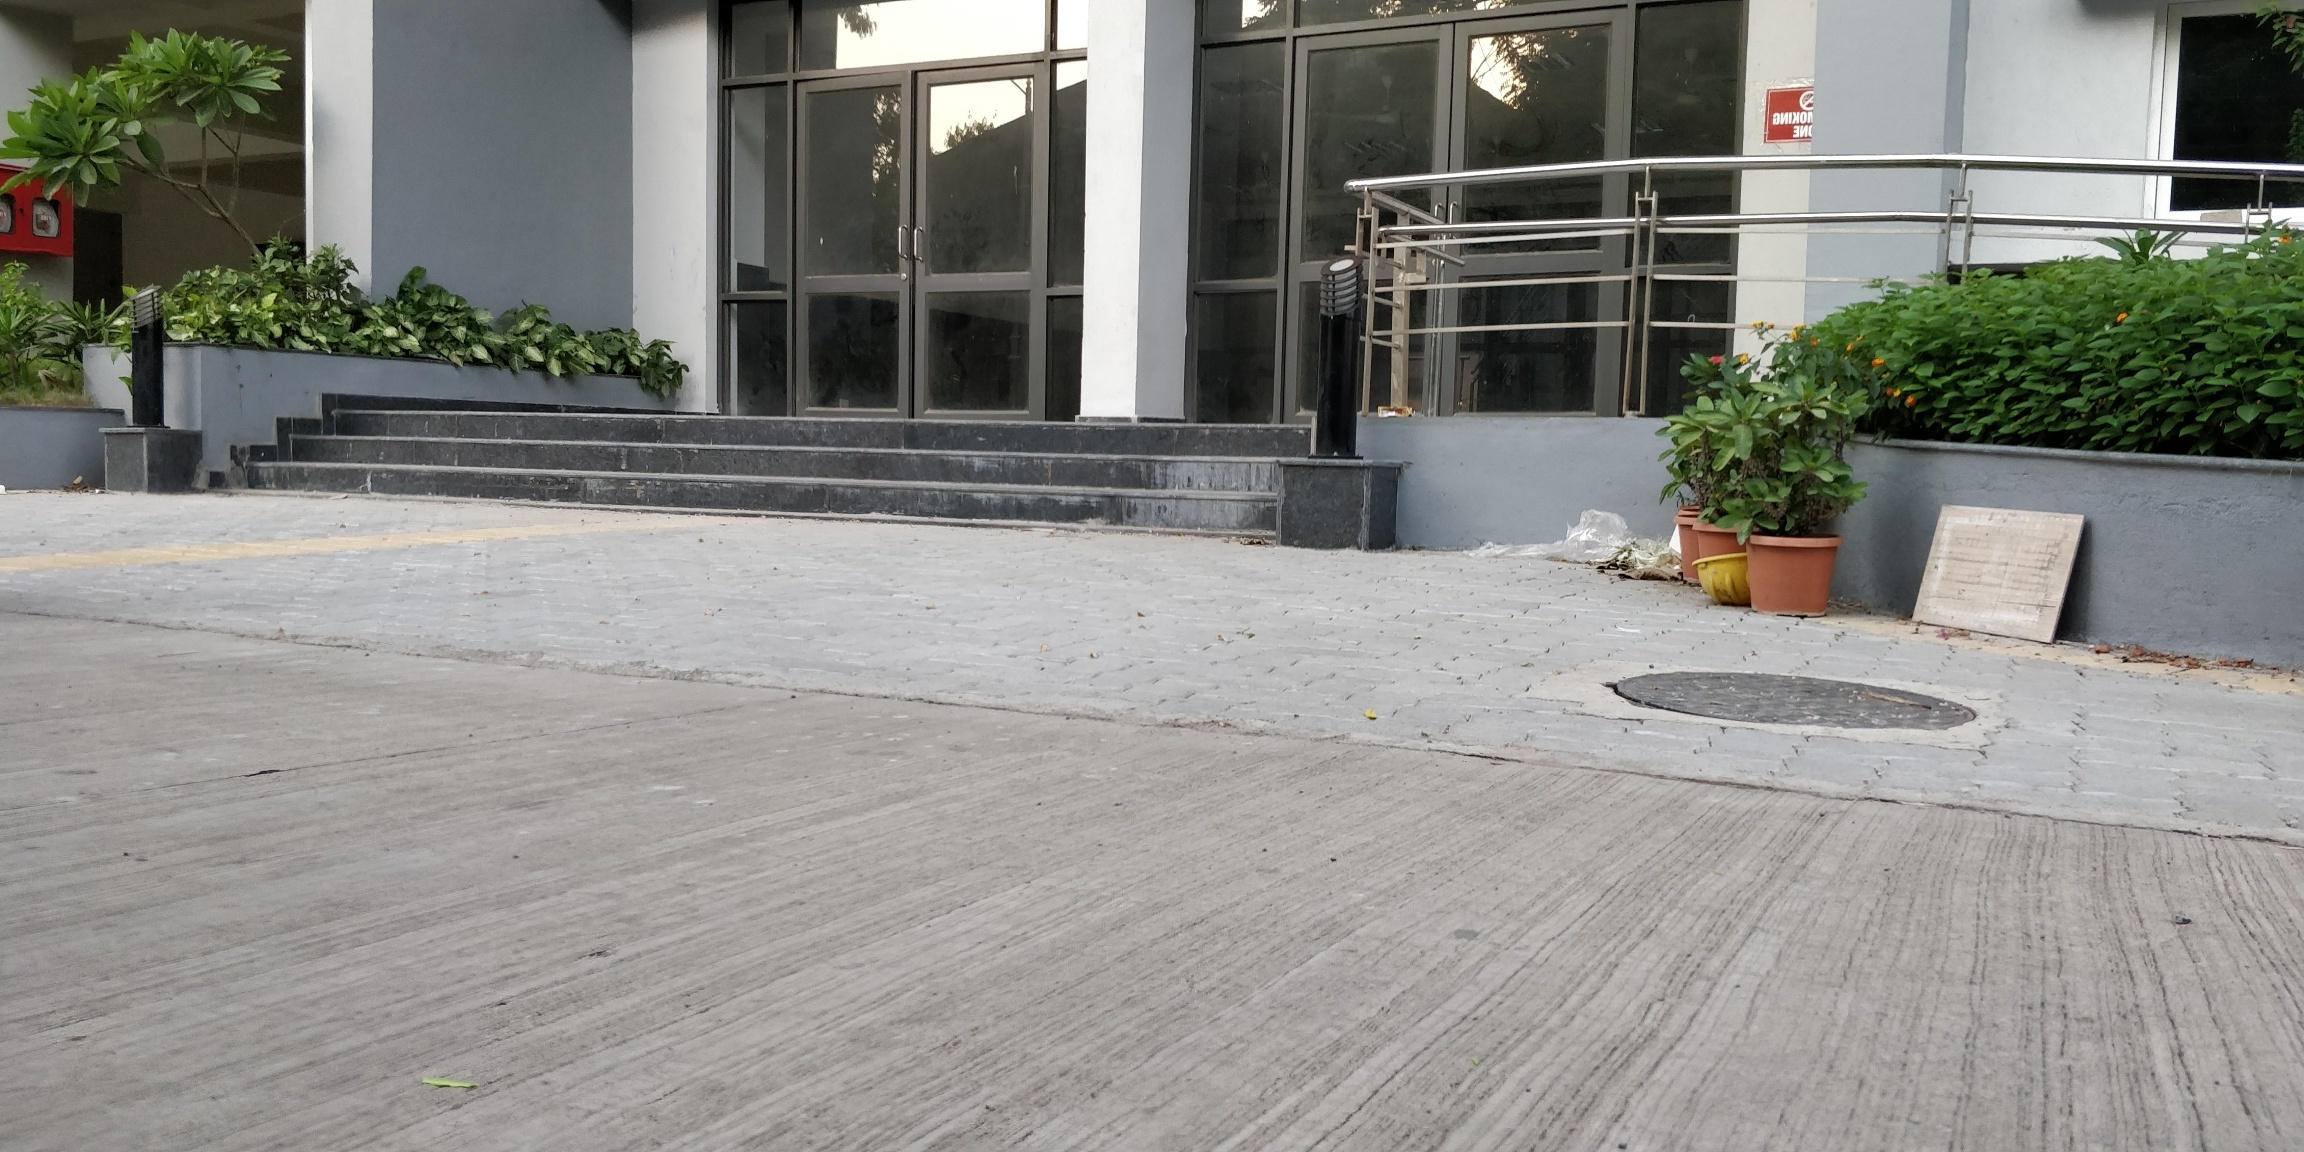stairs_up: (263, 416, 1317, 504)
